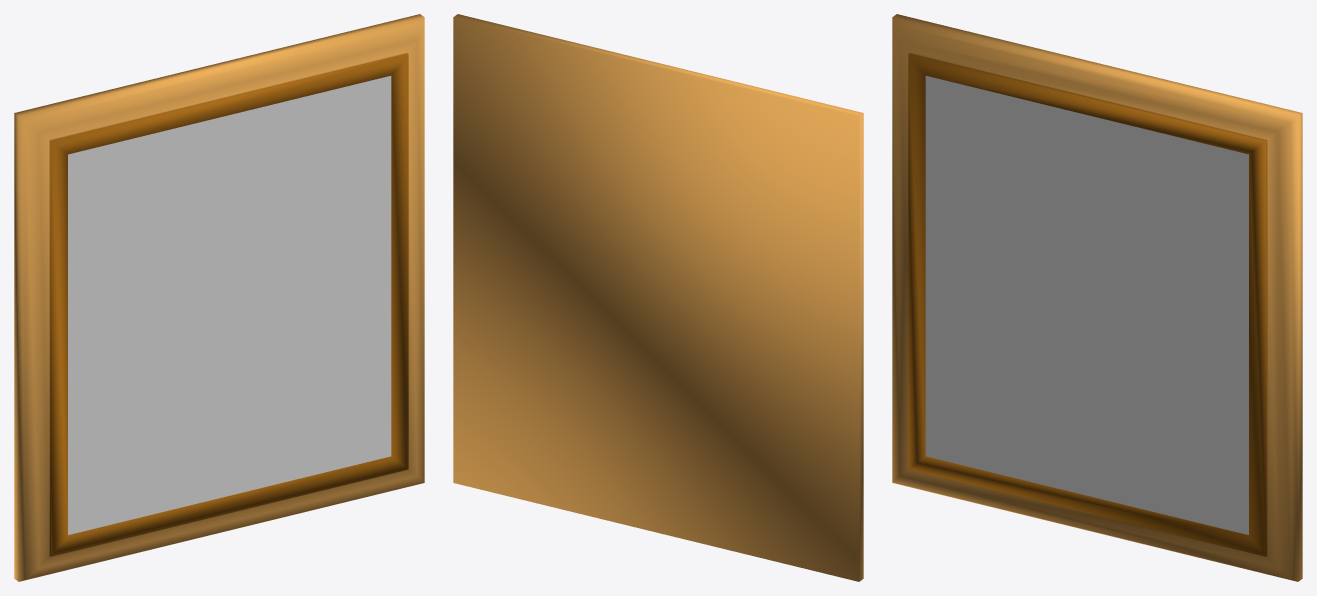
The model's file is Painting01.fbx.
3 renders of one model, left to right at view 1: azimuth 30°, elevation 25°; view 2: azimuth 150°, elevation 25°; view 3: azimuth 330°, elevation 25°, orthographic.
Parts seen in each view (by area): view 1: Painting01_Glass, Painting01; view 2: Painting01; view 3: Painting01_Glass, Painting01.
Part boxes in pixels (left/top/right/bottom): Painting01_Glass: left=68, top=76, right=391, bottom=534; Painting01: left=14, top=14, right=424, bottom=581; Painting01: left=453, top=14, right=863, bottom=581; Painting01_Glass: left=925, top=76, right=1248, bottom=534; Painting01: left=892, top=14, right=1302, bottom=581.
Bounding box in the file's own units: 1 × 1.1 × 0.0541.
